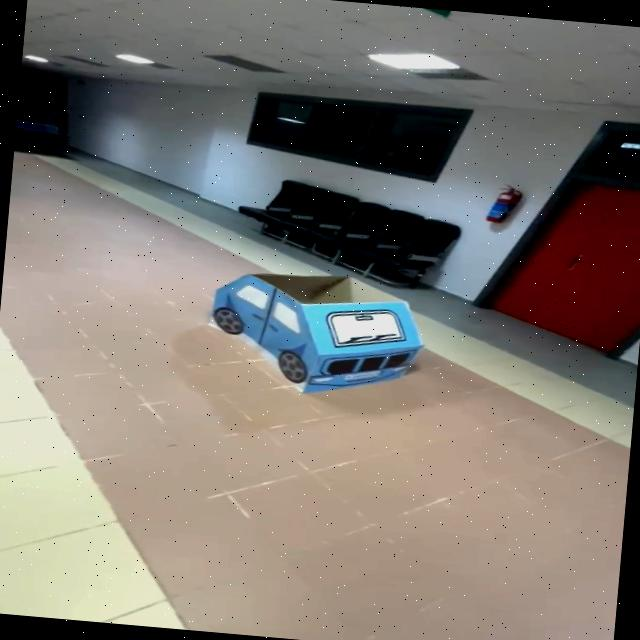blue_car: (183, 253, 438, 407)
